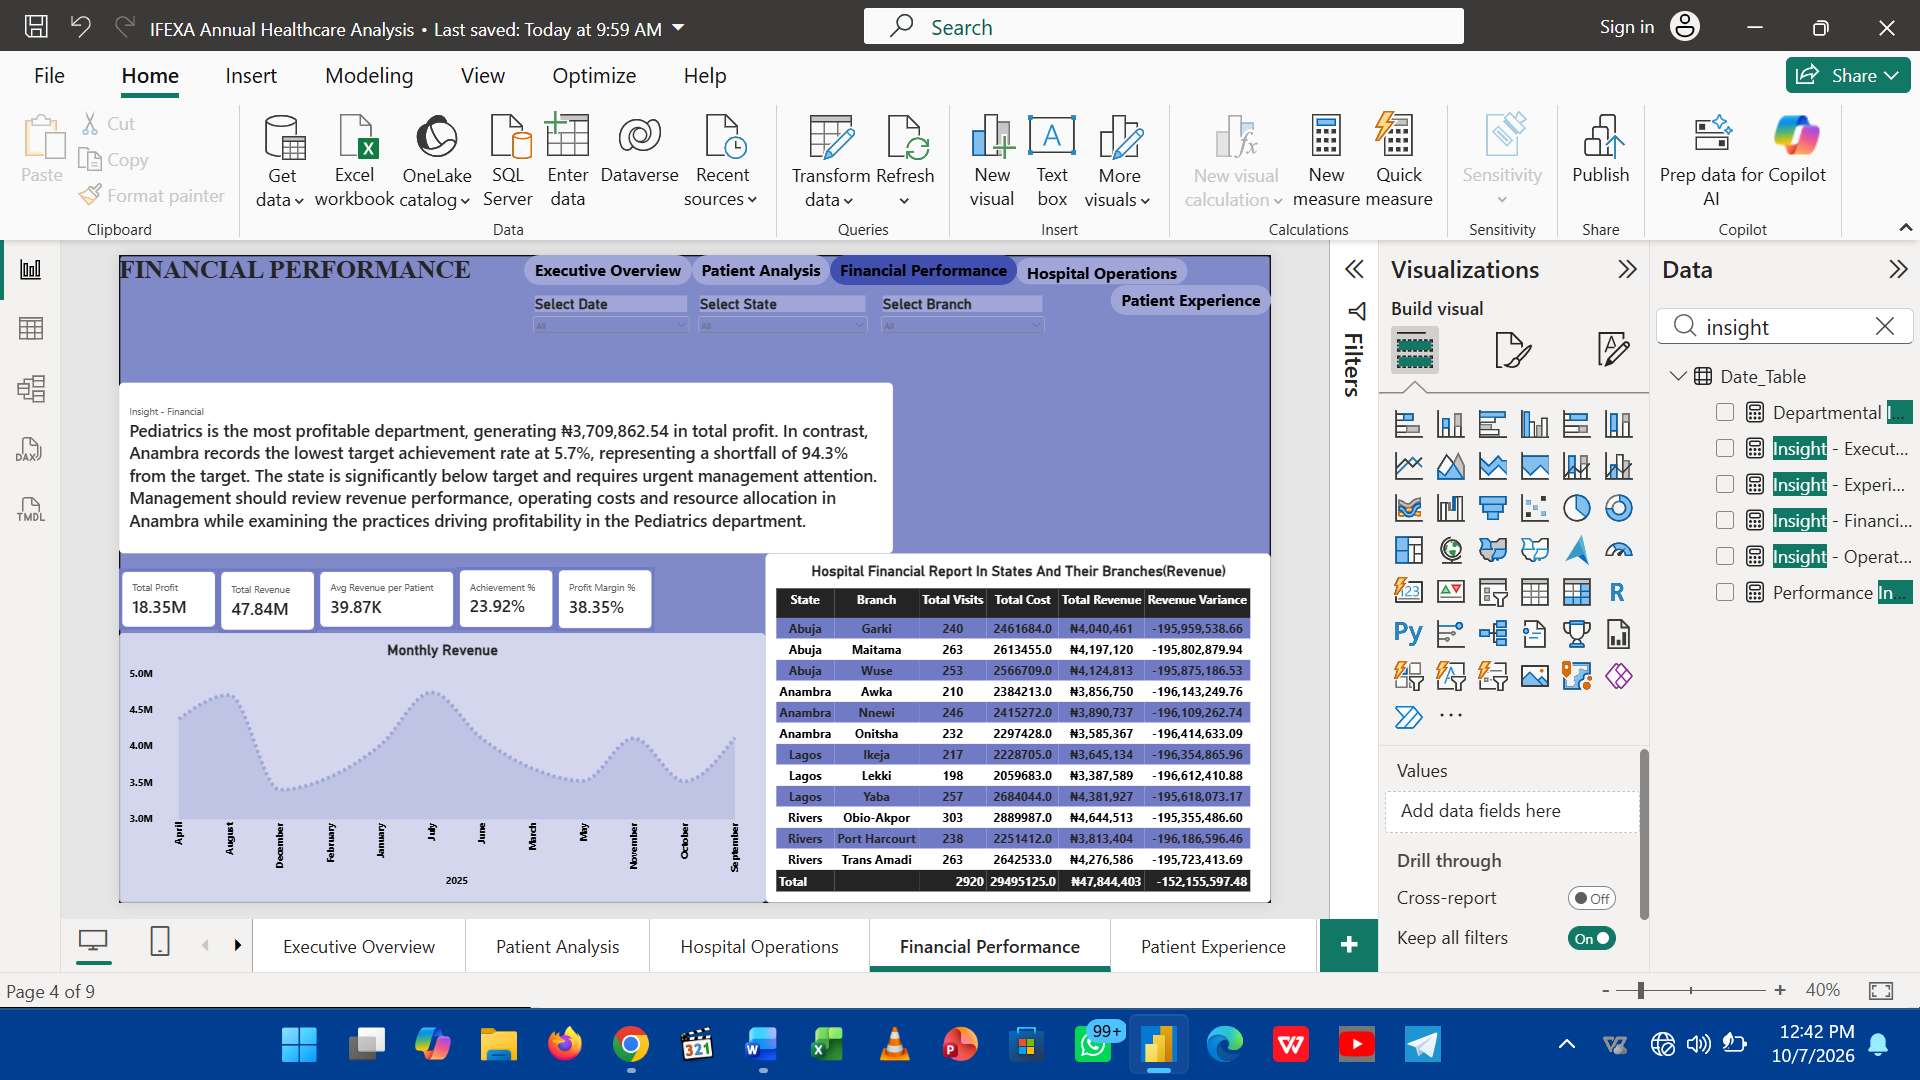

This screenshot's page, from the dashboard's own definition file:
{"tool":"powerbi","page":{"name":"Financial Performance","canvas":[1920,1080],"ordinal":3},"visuals":[{"type":"cardVisual","fields":{"Data":["Date_Table.Total Revenue"]},"box":[165,522.5,165,107.5],"z":0},{"type":"cardVisual","fields":{"Data":["Date_Table.Profit Margin %"]},"box":[727.5,520,165,107.5],"z":1000},{"type":"cardVisual","fields":{"Data":["Date_Table.Achievement %"]},"box":[562.5,520,165,105],"z":2000},{"type":"cardVisual","fields":{"Data":["Date_Table.Total Profit"]},"box":[0,522.5,165,102.5],"z":3000},{"type":"clusteredBarChart","title":"Departmental Revenue","fields":{"Category":["Patient_Visits.Department"],"Y":["Date_Table.Total Revenue"]},"box":[1290,737.5,625,285],"z":4000},{"type":"lineChart","title":"Monthly Revenue ","fields":{"Category":["Date_Table.Year","Date_Table.Month"],"Y":["Date_Table.Total Revenue"]},"box":[0,630,1077.5,450],"z":5000},{"type":"tableEx","title":"Hospital Financial Report In States And Their Branches(Revenue)","fields":{"Values":["Patient_Visits.State","Patient_Visits.Branch","Date_Table.Total Visits","Date_Table.Total Cost","Date_Table.Total Revenue","Date_Table.Revenue Variance"]},"box":[1078.4,498.7,842.2,582.2],"z":6000},{"type":"cardVisual","fields":{"Data":["Date_Table.Avg Revenue per Patient"]},"box":[330,522.5,232,102],"z":7000},{"type":"textbox","box":[0,0,730.1,100.2],"z":8000},{"type":"slicer","fields":{"Values":["Patient_Visits.Branch"]},"box":[1264,68,282,62],"z":11000},{"type":"slicer","fields":{"Values":["Patient_Visits.State"]},"box":[960,68,292,62],"z":12000},{"type":"slicer","fields":{"Values":["Date_Table.Date"]},"box":[684,68,270,62],"z":13000},{"type":"actionButton","box":[1496,6,286,44],"z":14000},{"type":"actionButton","box":[674,0,280,50],"z":15000},{"type":"actionButton","box":[1184,0,312,50],"z":16000},{"type":"actionButton","box":[1652,50,268,50],"z":17000},{"type":"actionButton","box":[954,0,230,50],"z":18000},{"type":"cardVisual","fields":{"Data":["Date_Table.Insight - Financial"]},"box":[0,212.5,1290,285],"z":18001}]}

Visuals, with their boxes on the page's 1920x1080 design canvas (x1, y1, x2, y2). These are canvas units, not pixel positions in the 1920x1080 screenshot, which may show the page scaled, cropped or inside an application window:
cardVisual - Date_Table.Total Revenue: bbox=[165, 522, 330, 630]
cardVisual - Date_Table.Profit Margin %: bbox=[728, 520, 892, 628]
cardVisual - Date_Table.Achievement %: bbox=[562, 520, 728, 625]
cardVisual - Date_Table.Total Profit: bbox=[0, 522, 165, 625]
"Departmental Revenue" clusteredBarChart: bbox=[1290, 738, 1915, 1022]
"Monthly Revenue " lineChart: bbox=[0, 630, 1078, 1080]
"Hospital Financial Report In States And Their Branches(Revenue)" tableEx: bbox=[1078, 499, 1921, 1081]
cardVisual - Date_Table.Avg Revenue per Patient: bbox=[330, 522, 562, 624]
textbox: bbox=[0, 0, 730, 100]
slicer - Patient_Visits.Branch: bbox=[1264, 68, 1546, 130]
slicer - Patient_Visits.State: bbox=[960, 68, 1252, 130]
slicer - Date_Table.Date: bbox=[684, 68, 954, 130]
actionButton: bbox=[1496, 6, 1782, 50]
actionButton: bbox=[674, 0, 954, 50]
actionButton: bbox=[1184, 0, 1496, 50]
actionButton: bbox=[1652, 50, 1920, 100]
actionButton: bbox=[954, 0, 1184, 50]
cardVisual - Date_Table.Insight - Financial: bbox=[0, 212, 1290, 498]
